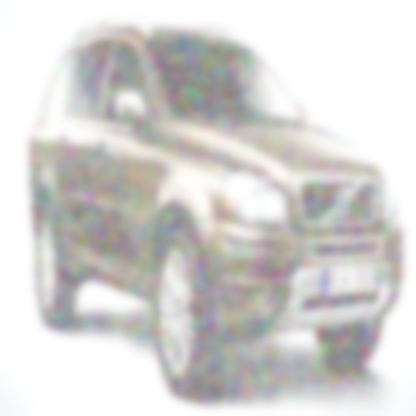Vehicle: (29, 16, 404, 404)
